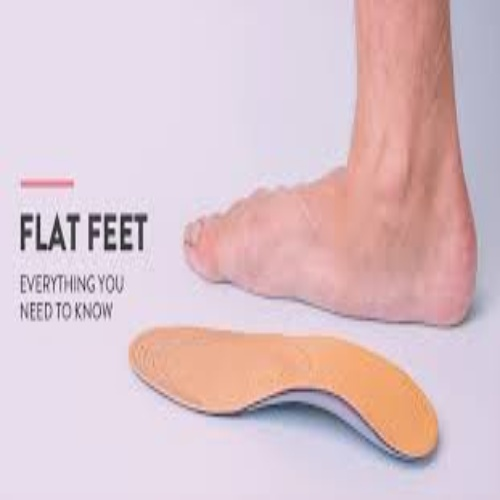Top_Foot: (184, 166, 477, 324)
